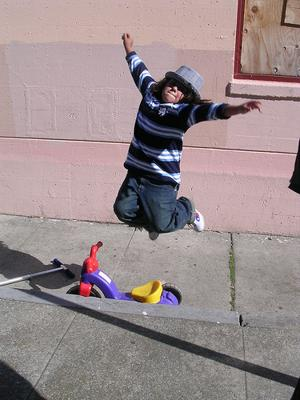person: (114, 31, 262, 246)
